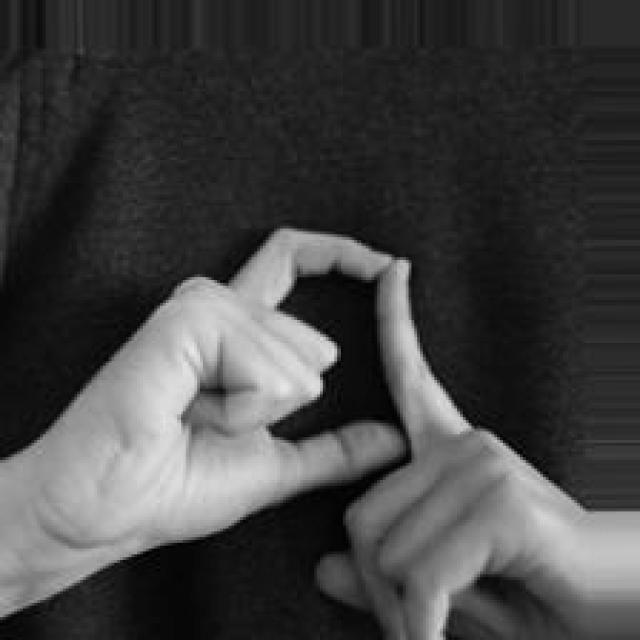D: (59, 223, 636, 640)
